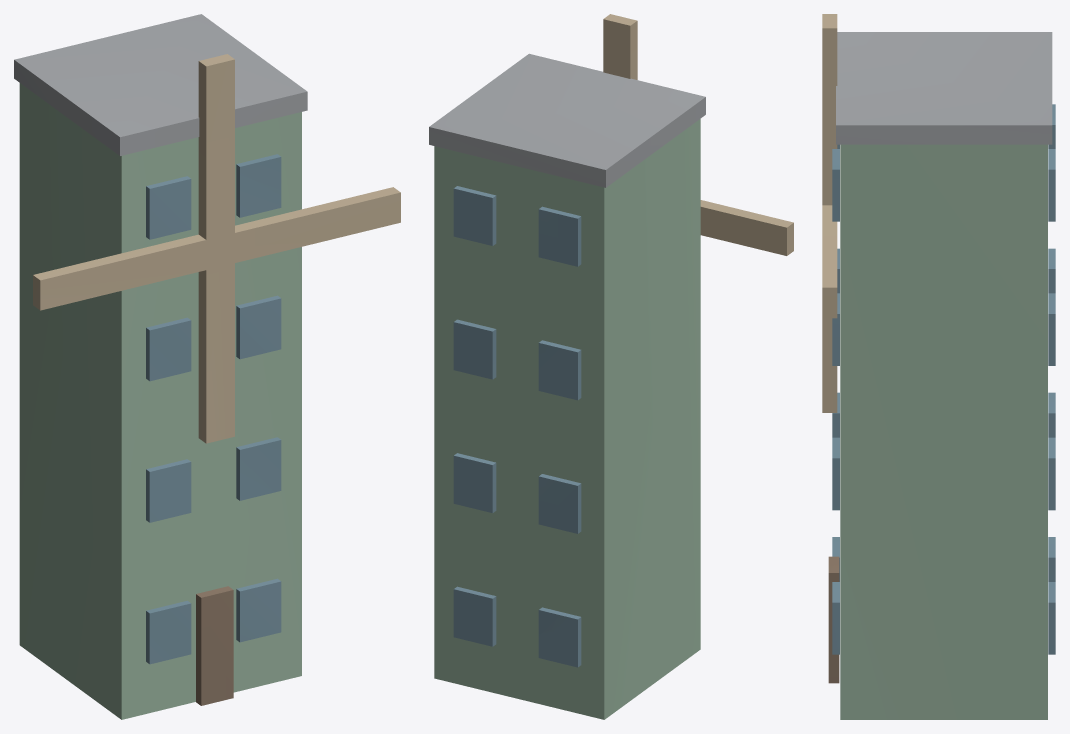
Rendered from windmill-04.glb.
3 renders of one model, left to right at view 1: azimuth 30°, elevation 25°; view 2: azimuth 150°, elevation 25°; view 3: azimuth 270°, elevation 25°, orthographic. The views are drawn at different scales.
Visible parts, largest first — view 1: world; view 2: world; view 3: world.
Boxes of the visible parts, left/top/right/bottom form: world: left=14, top=14, right=400, bottom=719; world: left=429, top=14, right=793, bottom=719; world: left=822, top=14, right=1055, bottom=719.
Bounding box in the file's own units: 1.39 × 2.37 × 0.7677.
